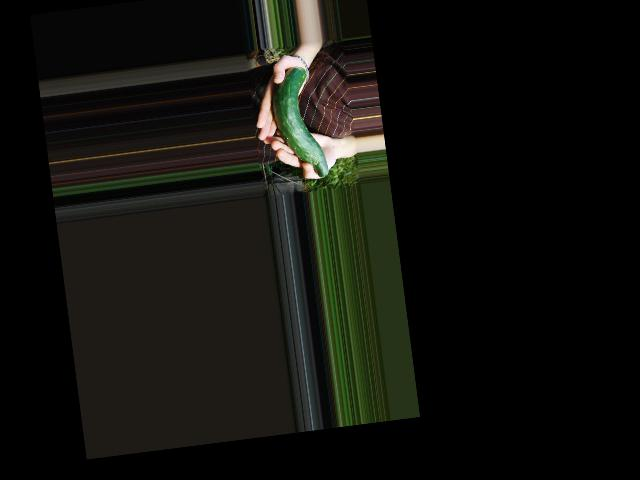cucumber: (268, 63, 329, 181)
